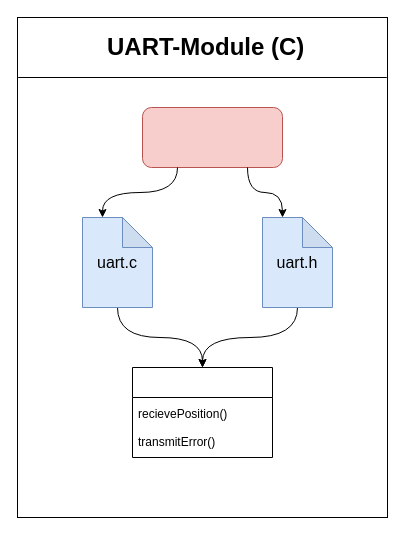
Image size: 406x543. Some labels were removed from this diagram. The box of each missing label's shape, as (x1, y1, x2, y2) in pixels:
Functions: (132, 366, 272, 458)
HAL UART driver: (142, 106, 282, 168)
